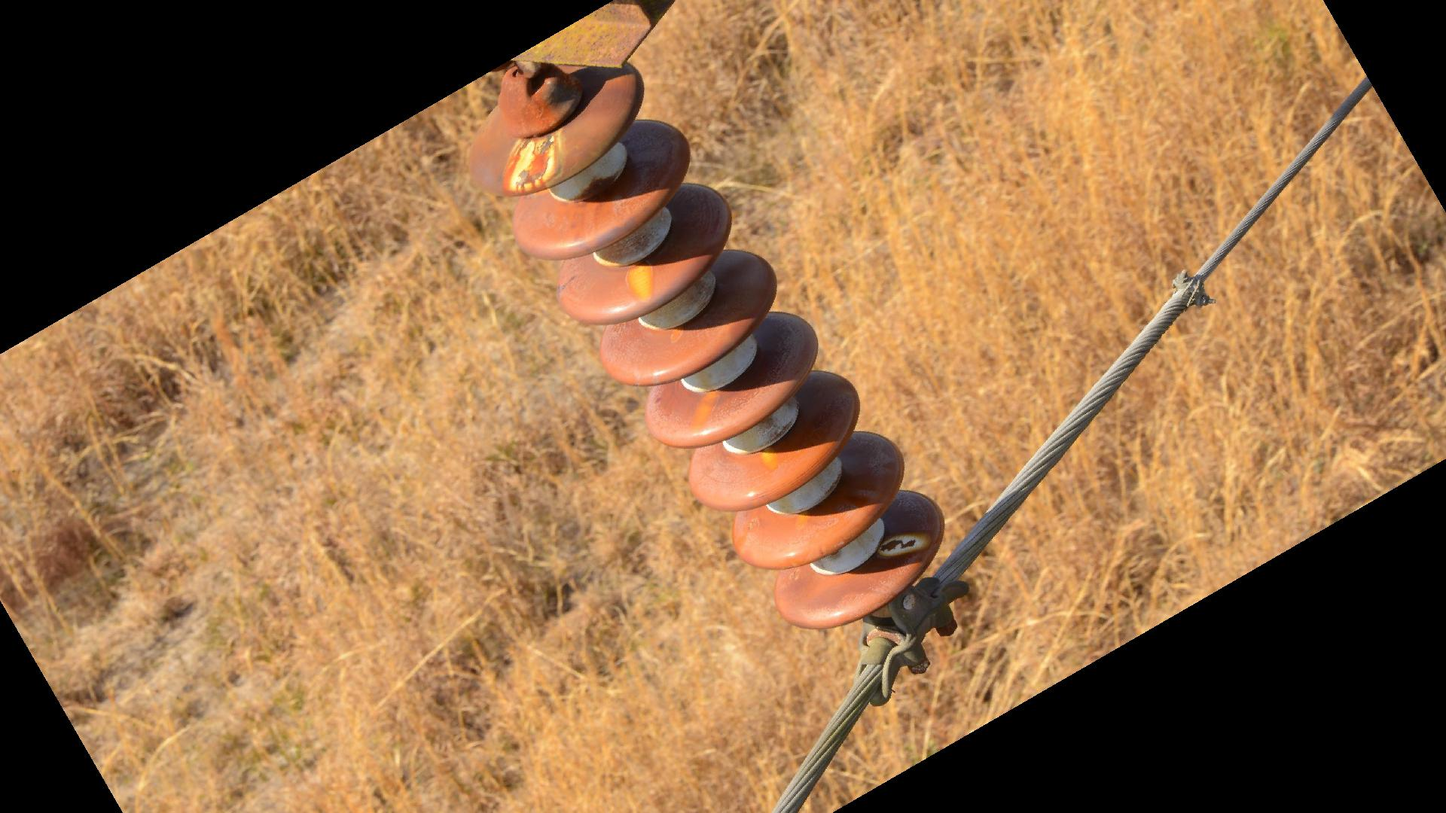insulator: (460, 60, 950, 636)
insulator_flashover: (496, 124, 567, 199), (687, 385, 723, 441), (621, 257, 658, 307), (876, 528, 932, 559)
